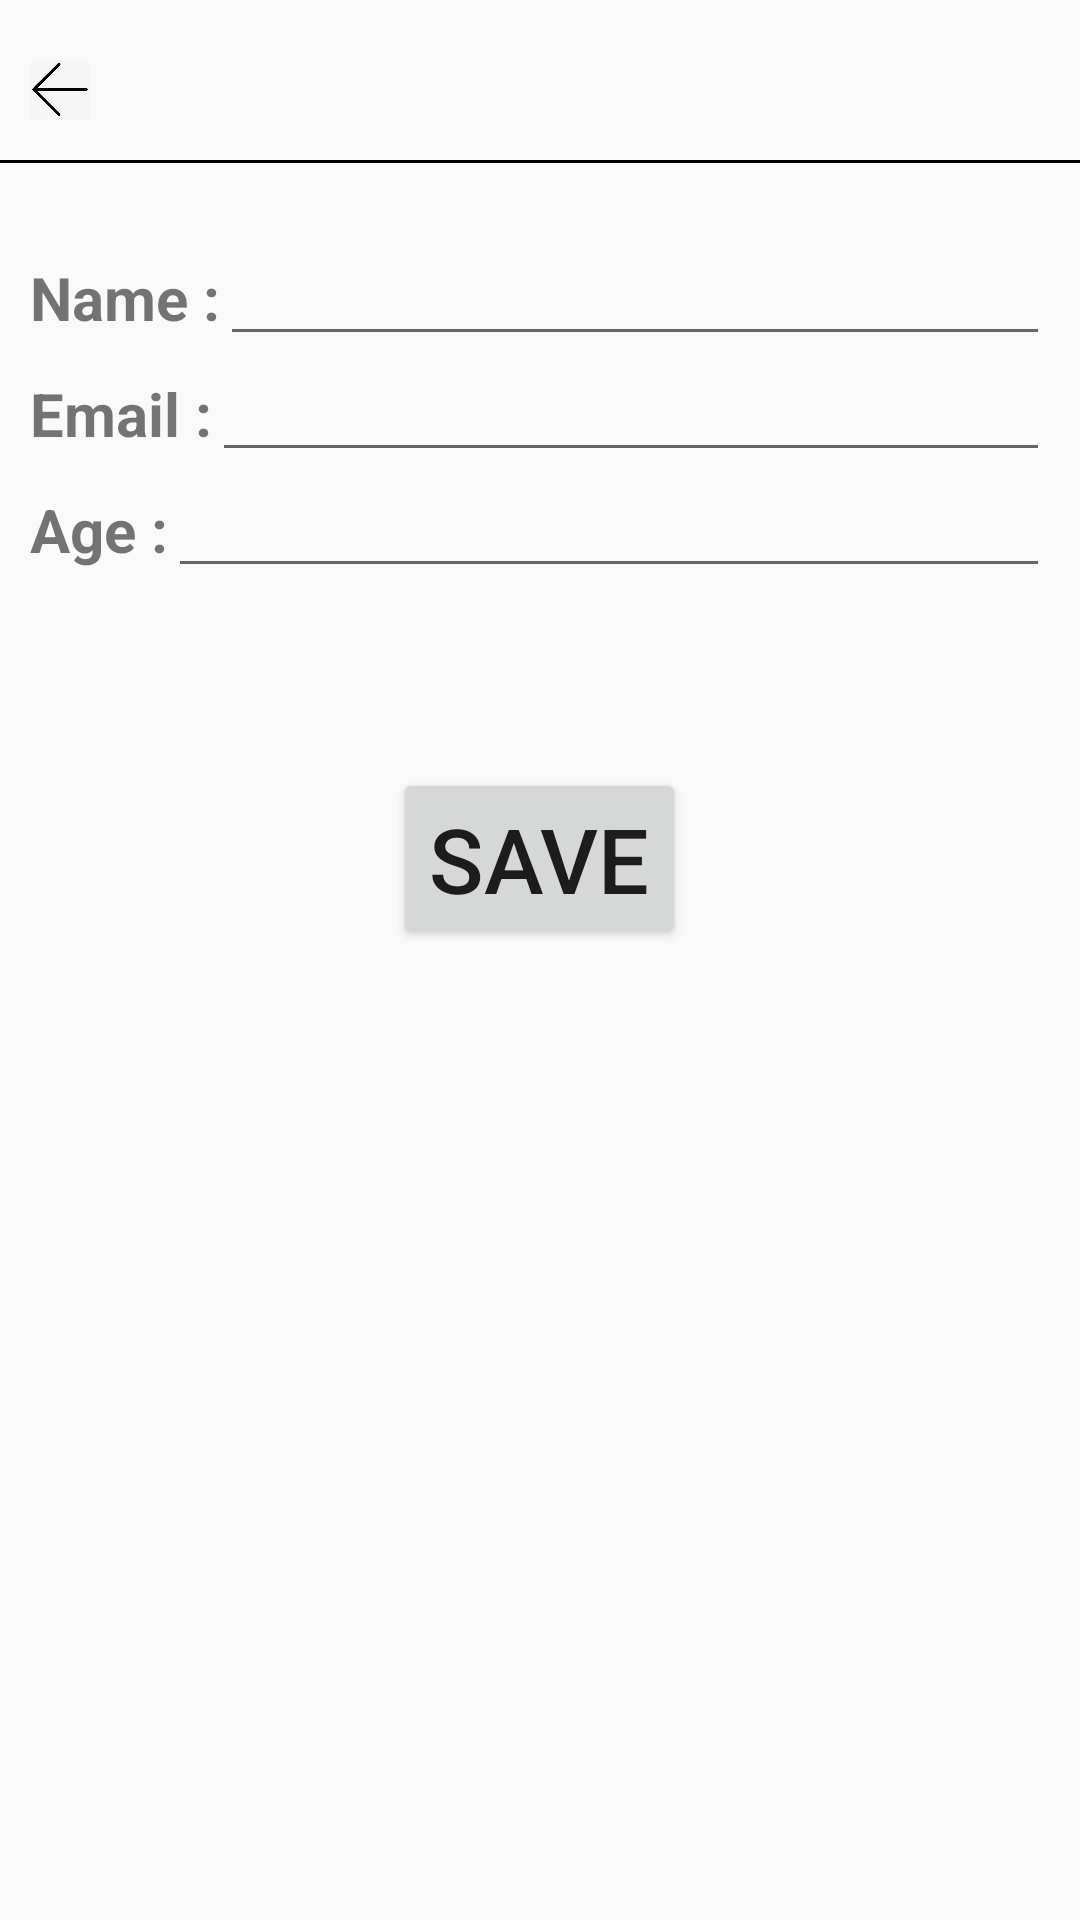

Screen size 1080px×1920px. Icon name, then its box in pixels as (x1, y1, x2, y2):
back: (32, 63, 88, 116)
